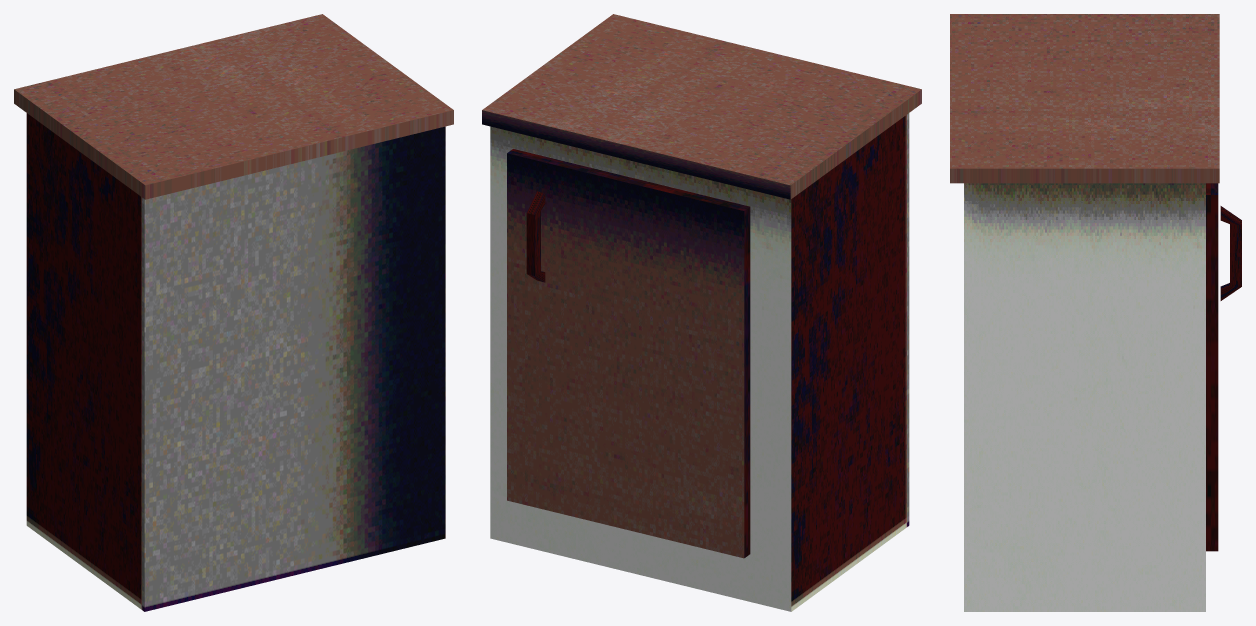
The model's file is StandardSingleCabinet.obj.
3 renders of one model, left to right at view 1: azimuth 30°, elevation 25°; view 2: azimuth 150°, elevation 25°; view 3: azimuth 270°, elevation 25°, orthographic. The views are drawn at different scales.
Parts seen in each view (by area): view 1: Cube.039; view 2: Cube.039; view 3: Cube.039.
Boxes of the visible parts, x1=… form: Cube.039: x1=14, y1=14, x2=453, y2=611; Cube.039: x1=482, y1=14, x2=921, y2=611; Cube.039: x1=950, y1=14, x2=1241, y2=611.
Bounding box in the file's own units: 1.65 × 2.21 × 1.32.
